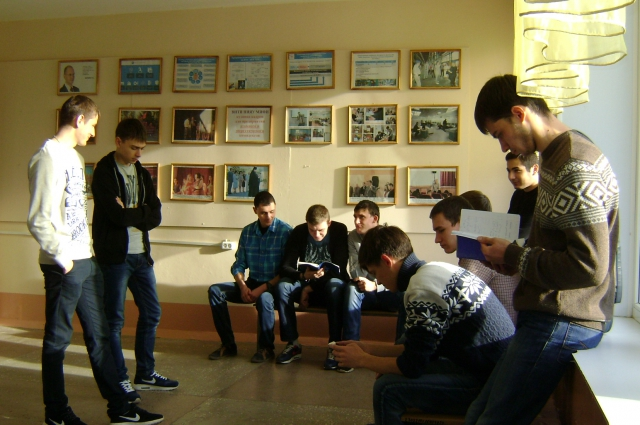students: (474, 75, 622, 425), (27, 94, 163, 423), (327, 223, 523, 423), (92, 118, 179, 390), (207, 189, 295, 362), (278, 202, 349, 365), (431, 195, 516, 317), (347, 199, 393, 371), (502, 151, 541, 240), (459, 190, 493, 217)
